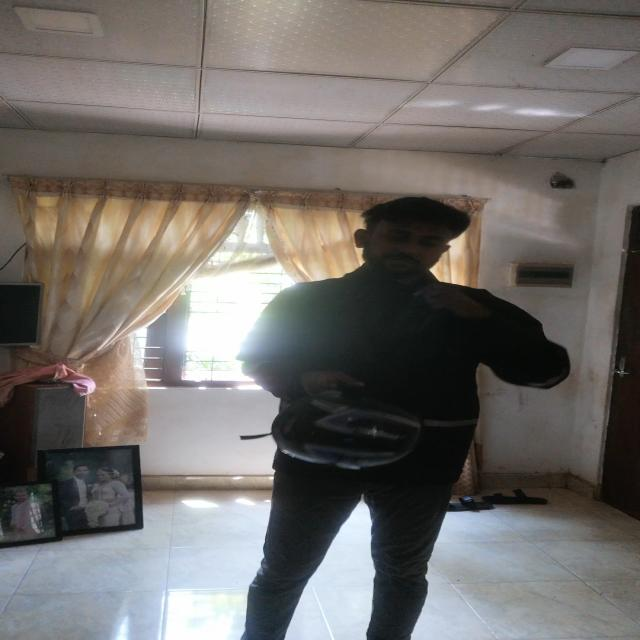Jacket_Wearer: (241, 265, 569, 497)
Person: (238, 187, 576, 640)
